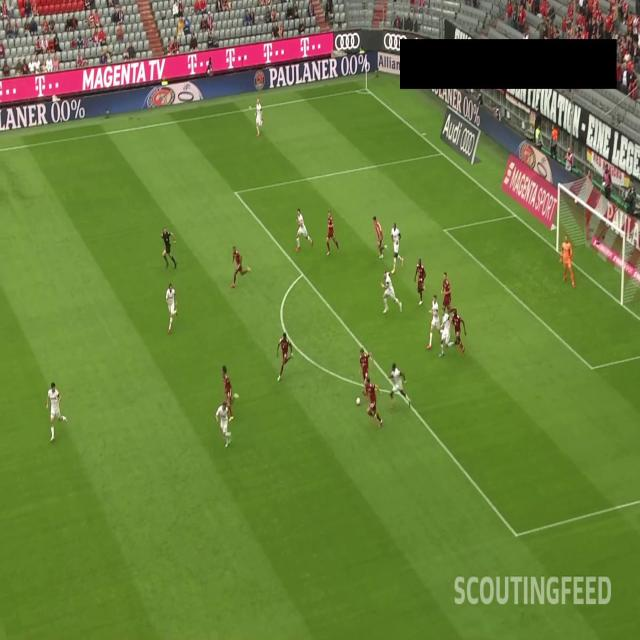ball: (355, 395, 362, 408)
player: (44, 378, 72, 444), (385, 360, 412, 409), (220, 360, 240, 423), (275, 328, 295, 384), (439, 266, 457, 328), (378, 265, 402, 311), (290, 205, 314, 251), (426, 293, 446, 347), (364, 373, 384, 426), (230, 240, 252, 288), (356, 346, 374, 400), (214, 400, 232, 450), (559, 232, 575, 288), (452, 306, 468, 360), (372, 212, 389, 262), (390, 220, 406, 273), (439, 306, 454, 359), (164, 282, 179, 334), (325, 209, 341, 256), (413, 255, 427, 305), (254, 98, 265, 136)
referee: (156, 222, 178, 272)
